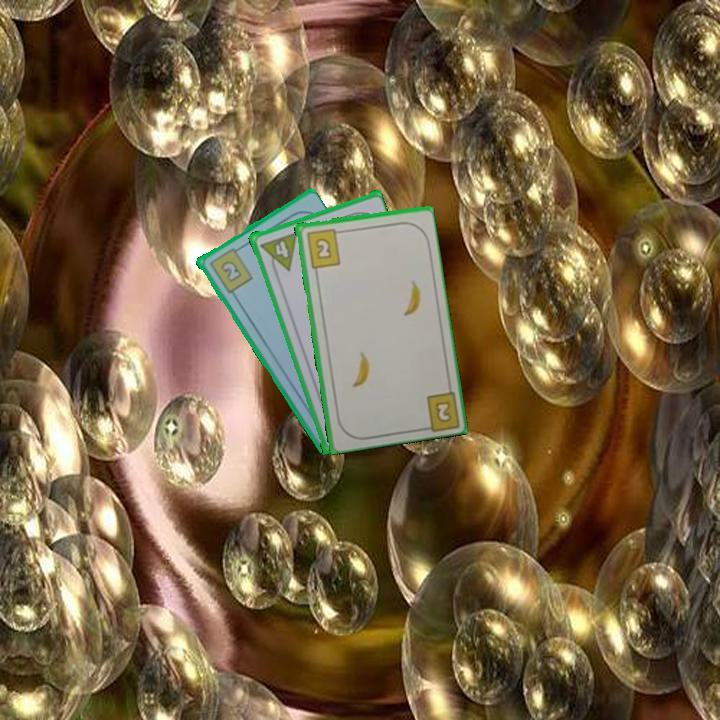2b: (205, 243, 255, 296), (303, 225, 345, 271), (431, 397, 454, 426)
4p: (269, 231, 300, 272)
